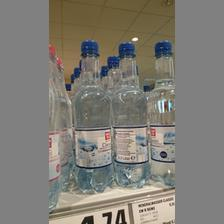Wasser: (72, 38, 116, 194), (111, 40, 150, 188), (147, 39, 173, 189)
